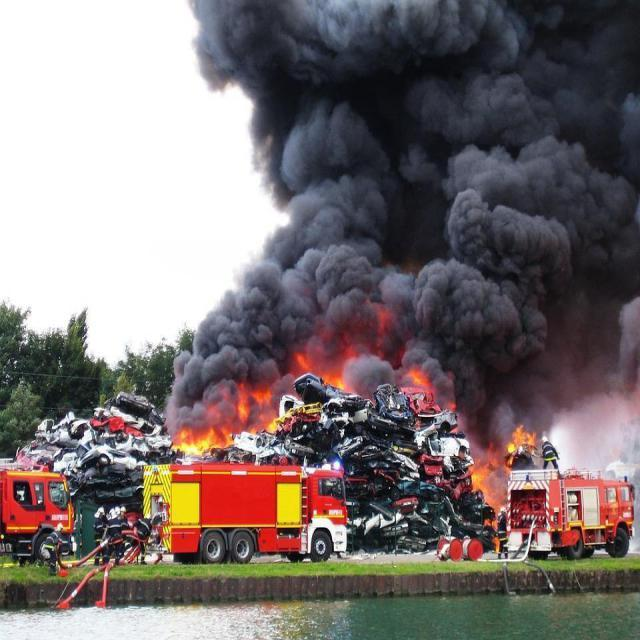Fire: (164, 378, 286, 459), (470, 418, 537, 526), (294, 338, 362, 403), (400, 364, 463, 422)
